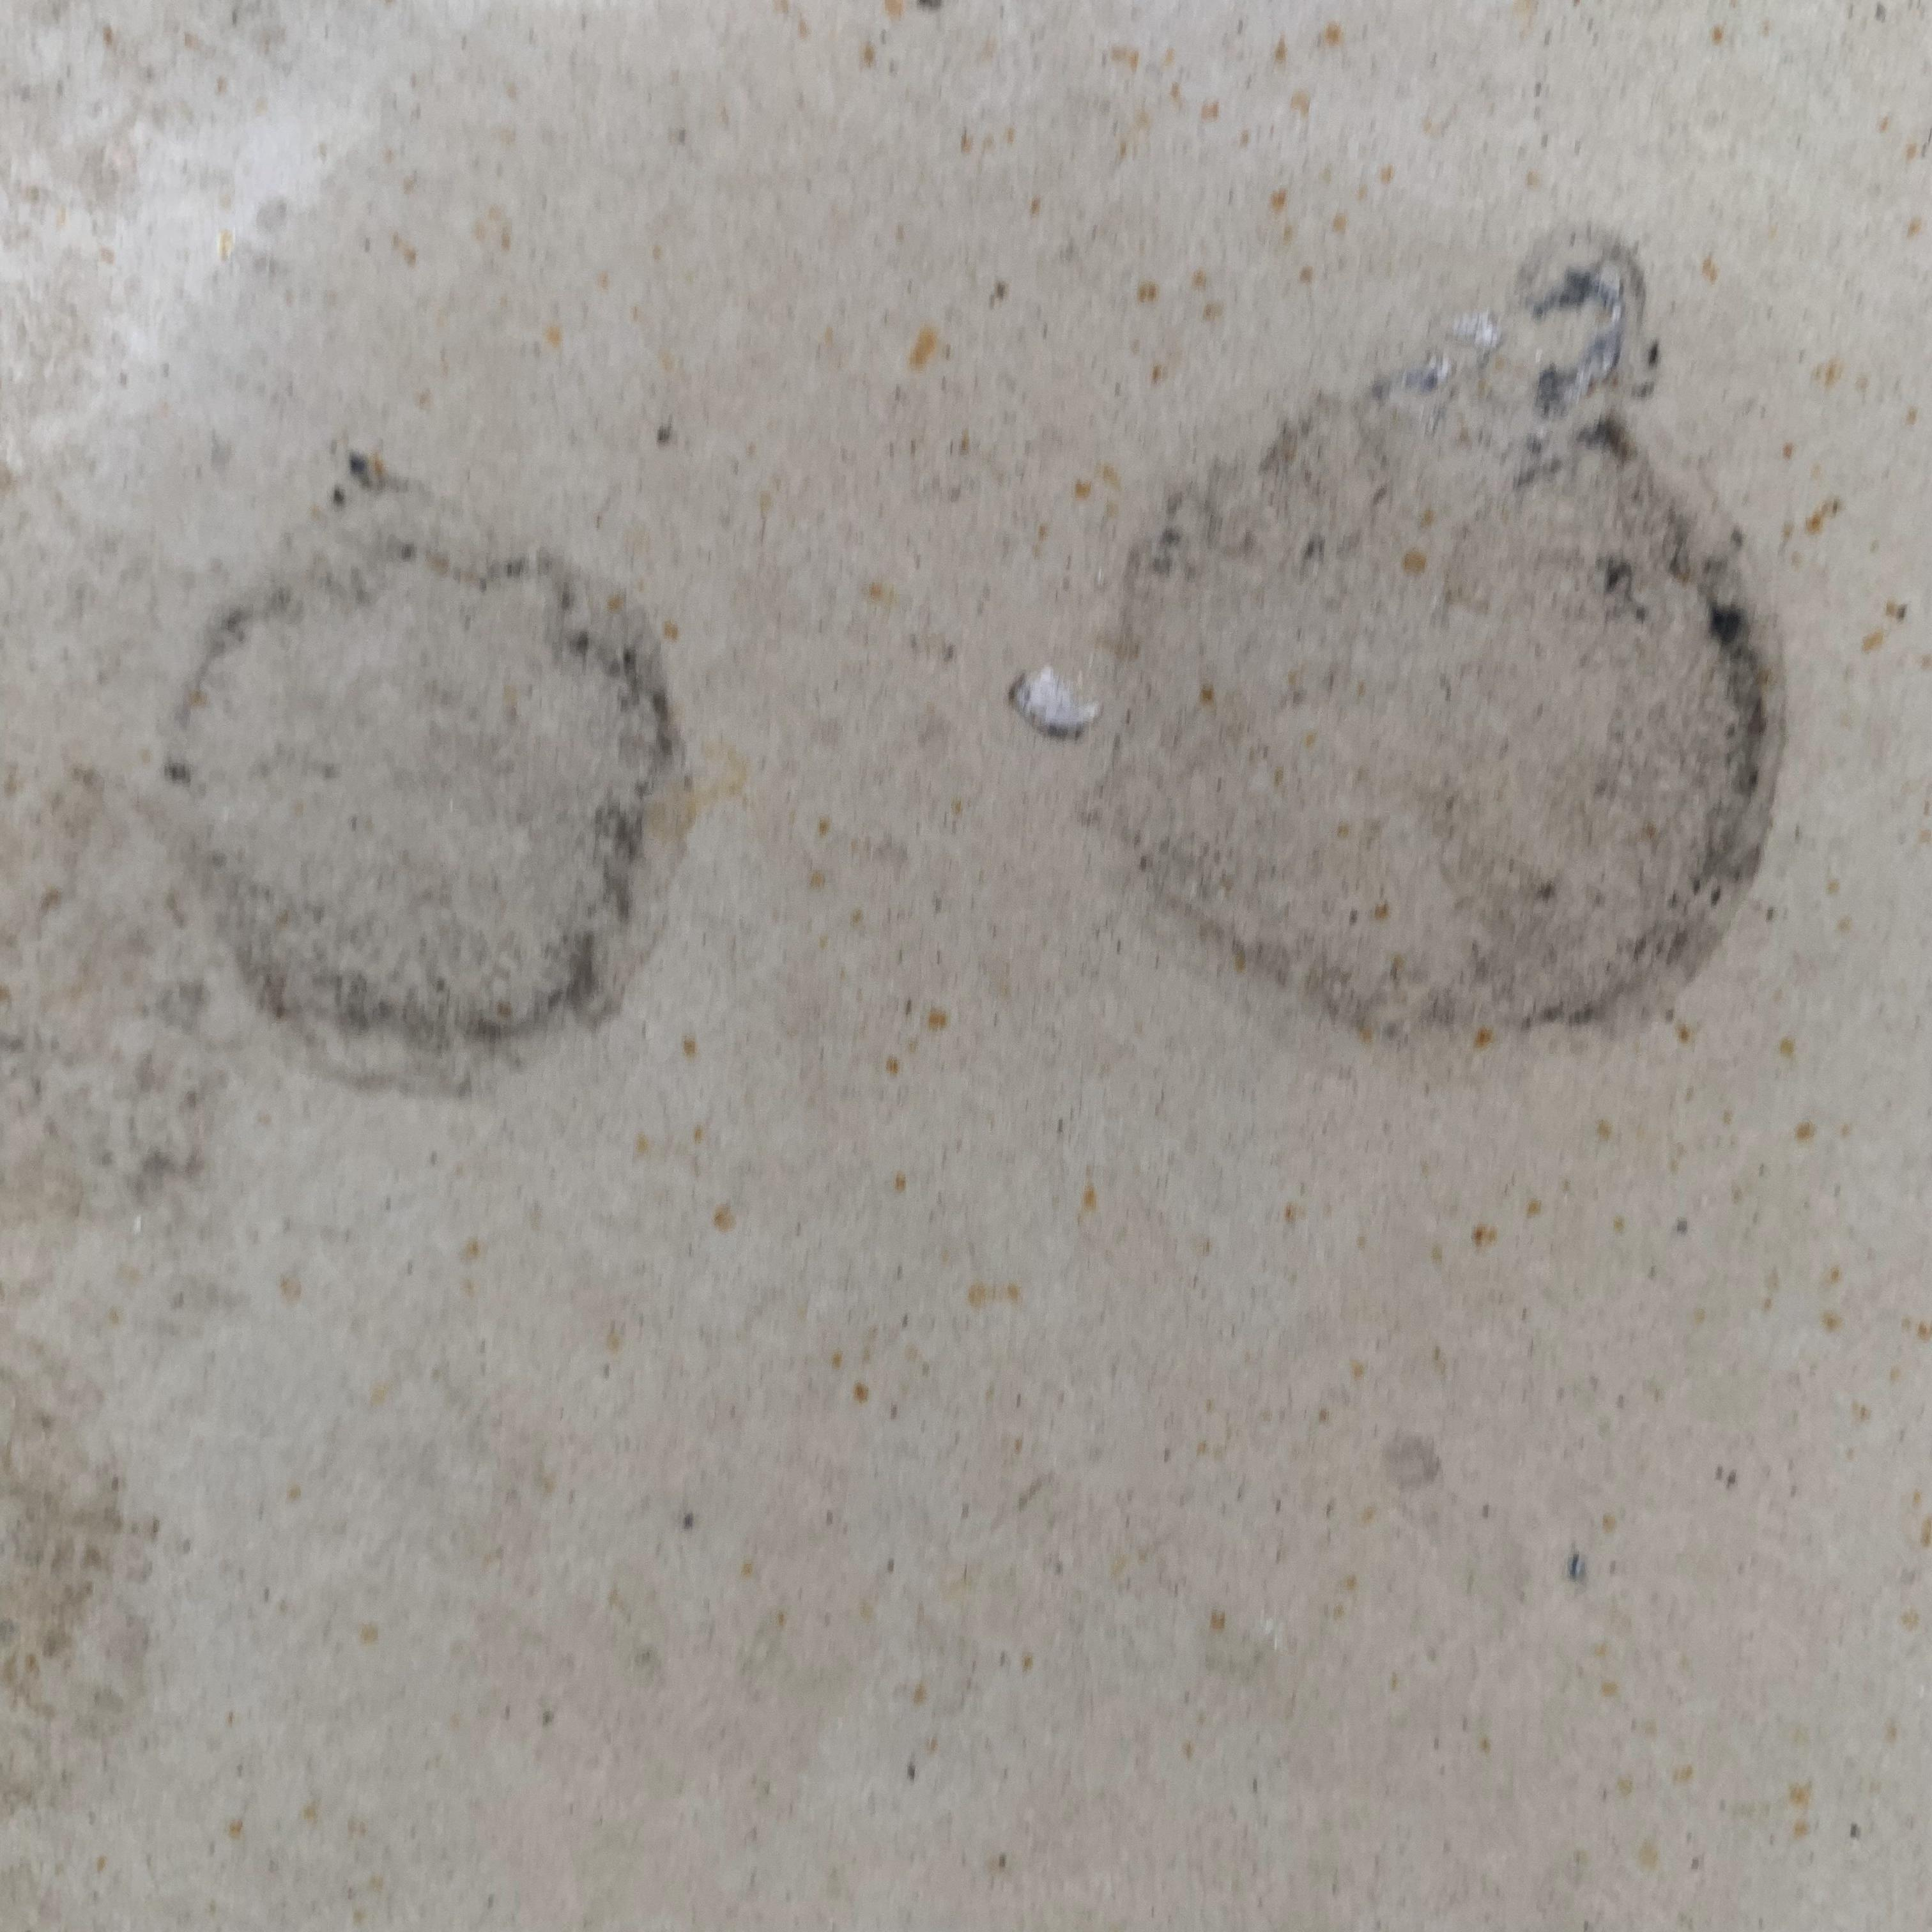grey spot: (1108, 226, 1785, 1077), (166, 465, 686, 1097)
